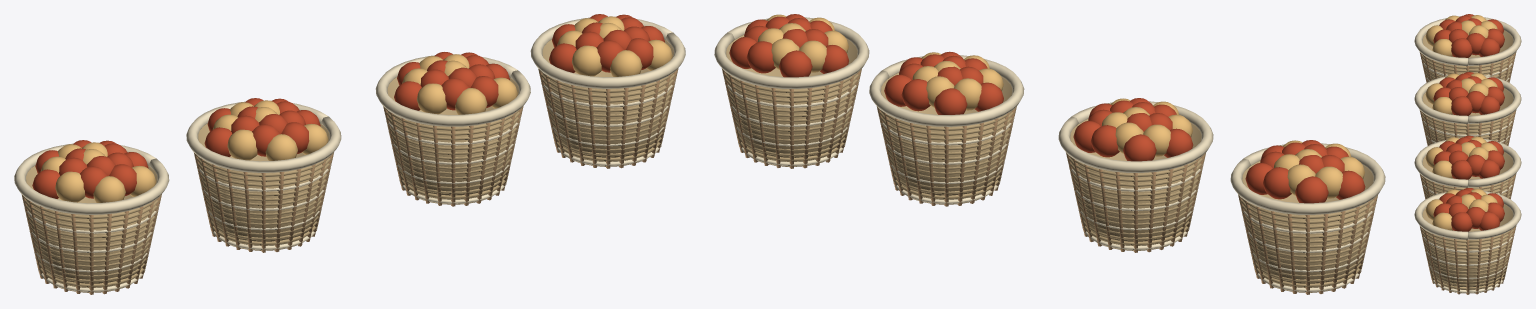
Rendered from produce-display.glb.
3 views of the same model, side by side, from view 1: azimuth 30°, elevation 25°; view 2: azimuth 150°, elevation 25°; view 3: azimuth 270°, elevation 25° (orthographic). The views are drawn at different scales.
Visible parts, largest first — view 1: produce-display__rope, produce-display__linen, produce-display__fruit, produce-display__woodlight, produce-display__ochre; view 2: produce-display__rope, produce-display__linen, produce-display__fruit, produce-display__woodlight, produce-display__ochre; view 3: produce-display__rope, produce-display__fruit, produce-display__linen, produce-display__ochre, produce-display__woodlight.
Boxes of the visible parts, x1,y1,x2,y2 form: produce-display__rope: [21, 39, 678, 292]; produce-display__linen: [14, 16, 685, 292]; produce-display__fruit: [32, 14, 664, 198]; produce-display__woodlight: [22, 69, 678, 294]; produce-display__ochre: [40, 16, 672, 202]; produce-display__rope: [721, 35, 1377, 292]; produce-display__linen: [714, 17, 1385, 292]; produce-display__fruit: [729, 14, 1365, 203]; produce-display__woodlight: [722, 69, 1378, 294]; produce-display__ochre: [757, 14, 1364, 198]; produce-display__rope: [1420, 30, 1515, 293]; produce-display__fruit: [1433, 14, 1504, 231]; produce-display__linen: [1414, 16, 1521, 292]; produce-display__ochre: [1425, 15, 1497, 230]; produce-display__woodlight: [1420, 52, 1516, 294].
Size of the model in its own units: 3.78 by 0.678 by 0.782.
